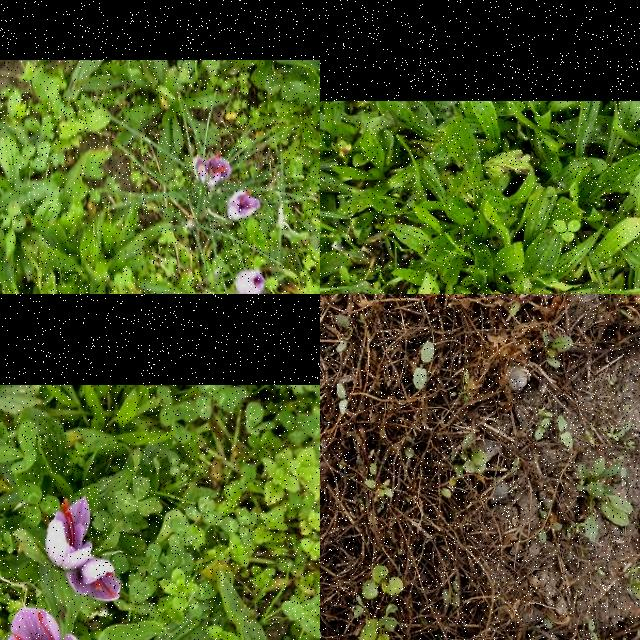flower: (46, 496, 92, 570), (7, 608, 84, 640), (66, 560, 122, 600), (192, 152, 234, 186), (226, 191, 262, 221), (234, 271, 267, 294)
